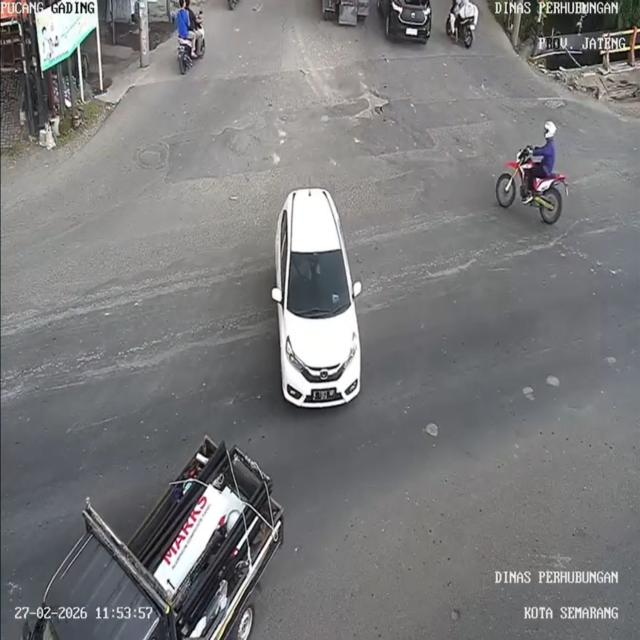motorcycle: (492, 147, 566, 227), (447, 12, 476, 51), (176, 35, 200, 73)
person: (535, 120, 564, 184), (174, 0, 190, 40), (185, 0, 199, 34)
rider_region: (495, 120, 568, 227), (172, 1, 206, 75)
